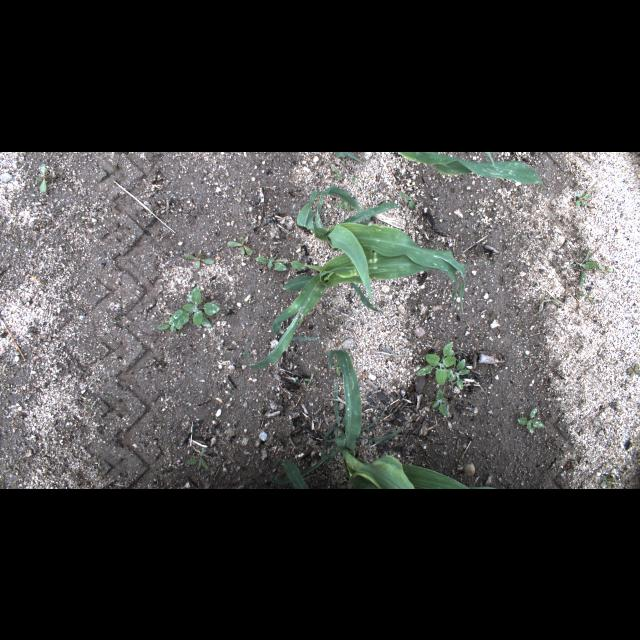crop: (271, 349, 497, 488), (243, 252, 472, 370), (296, 185, 466, 311), (396, 151, 544, 193), (273, 460, 309, 488), (332, 152, 362, 162)
weed: (168, 286, 220, 328), (415, 340, 457, 386), (565, 248, 597, 286), (518, 407, 544, 435), (449, 358, 471, 390), (426, 388, 449, 416), (254, 253, 288, 271), (226, 235, 252, 255), (186, 446, 208, 469), (183, 251, 214, 267), (36, 164, 46, 192), (156, 321, 177, 334), (400, 190, 414, 208), (576, 192, 590, 205), (600, 477, 616, 488), (338, 194, 349, 210), (627, 363, 639, 377), (578, 291, 594, 301), (599, 265, 613, 275), (522, 356, 538, 364), (542, 296, 558, 304), (304, 374, 314, 386), (334, 361, 340, 377), (333, 169, 341, 179), (294, 376, 298, 382), (248, 298, 252, 304), (352, 176, 356, 182)
